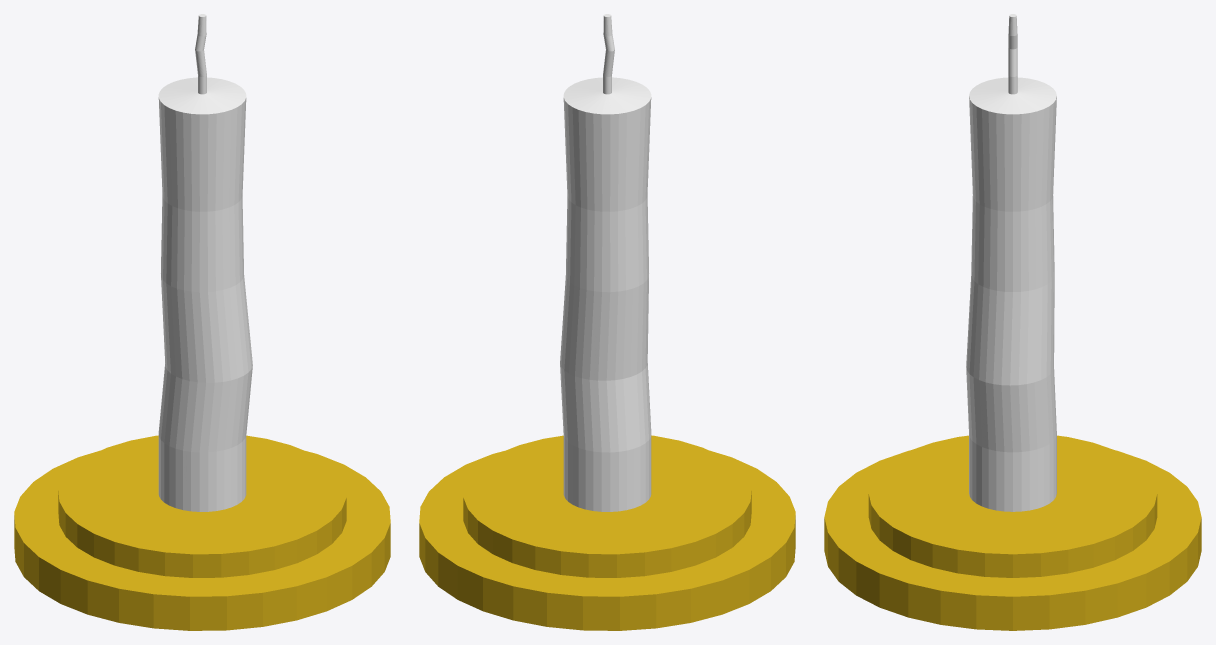
Rendered from Kerze.fbx.
3 views of the same model, side by side, from view 1: azimuth 30°, elevation 25°; view 2: azimuth 150°, elevation 25°; view 3: azimuth 270°, elevation 25° (orthographic).
Parts seen in each view (by area): view 1: Halterung, Kerze; view 2: Halterung, Kerze; view 3: Halterung, Kerze.
Part boxes in pixels (left/top/right/bottom): Halterung: left=14, top=435, right=390, bottom=630; Kerze: left=158, top=14, right=252, bottom=511; Halterung: left=419, top=435, right=795, bottom=630; Kerze: left=560, top=14, right=651, bottom=511; Halterung: left=824, top=435, right=1201, bottom=630; Kerze: left=966, top=14, right=1056, bottom=511.
Bounding box in the file's own units: 42.91 × 67.24 × 42.91.
